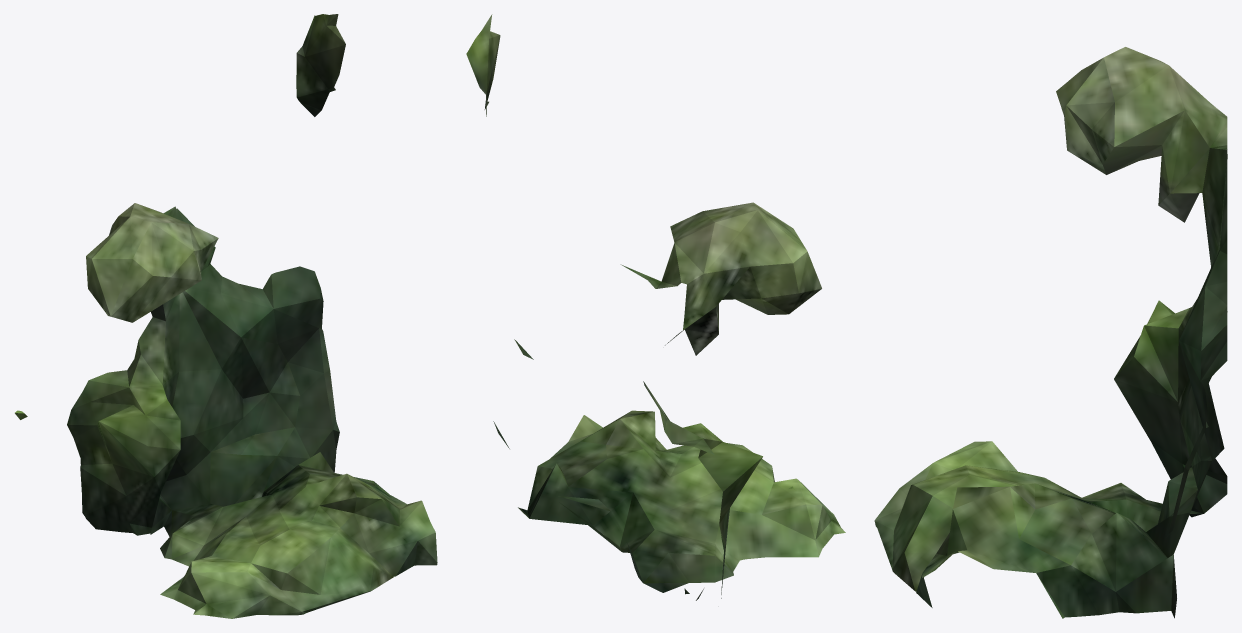
3 views of the same model, side by side, from view 1: azimuth 30°, elevation 25°; view 2: azimuth 150°, elevation 25°; view 3: azimuth 270°, elevation 25° (orthographic). The views are drawn at different scales.
Size of the model in its own units: 8.71 by 13.28 by 7.02.
1 material, 1 textured.
